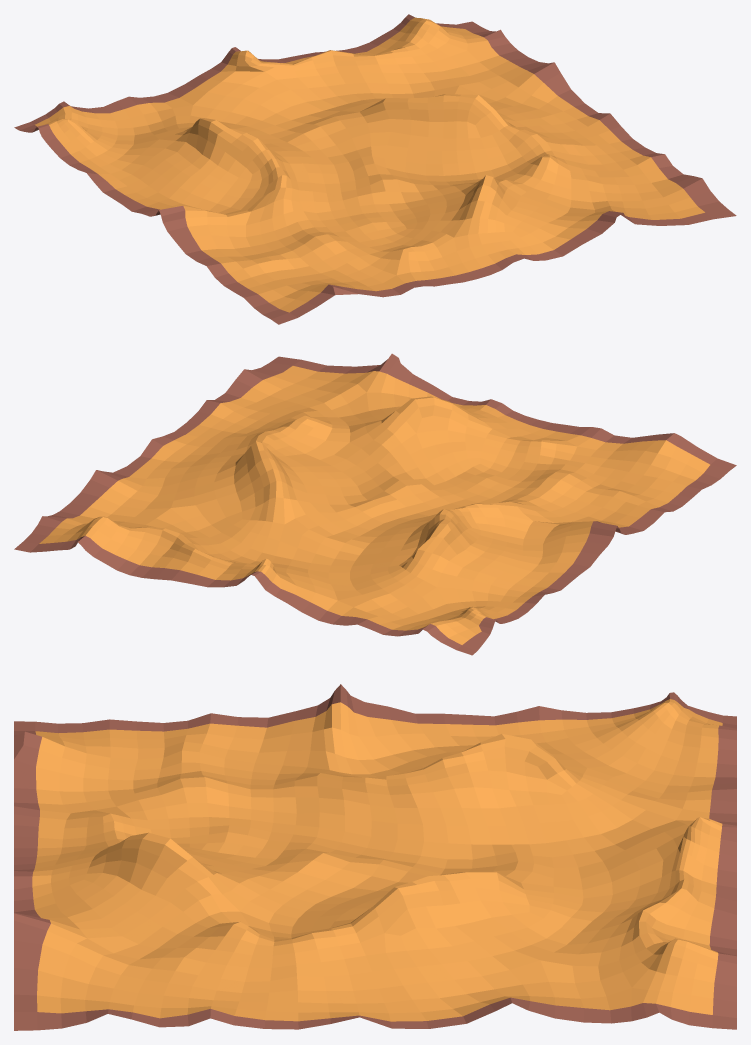
File: Desert.fbx
3 views of the same model, one above another, from view 1: azimuth 30°, elevation 25°; view 2: azimuth 150°, elevation 25°; view 3: azimuth 270°, elevation 25° (orthographic). The views are drawn at different scales.
Parts seen in each view (by area): view 1: Retopo_Sandstone Dunes Mountains.002; view 2: Retopo_Sandstone Dunes Mountains.002; view 3: Retopo_Sandstone Dunes Mountains.002.
Part boxes in pixels (box(x1,y1,x2,y2)): Retopo_Sandstone Dunes Mountains.002: box(14, 14, 736, 324); Retopo_Sandstone Dunes Mountains.002: box(14, 353, 736, 655); Retopo_Sandstone Dunes Mountains.002: box(14, 684, 736, 1030).
Bounding box in the file's own units: 1 × 0.1 × 1.
